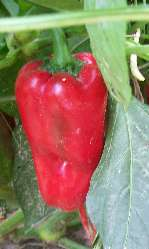capsicum: (13, 28, 110, 213)
